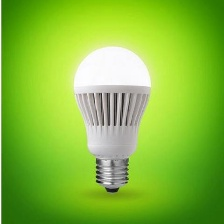light_bulb: (70, 42, 154, 195)
